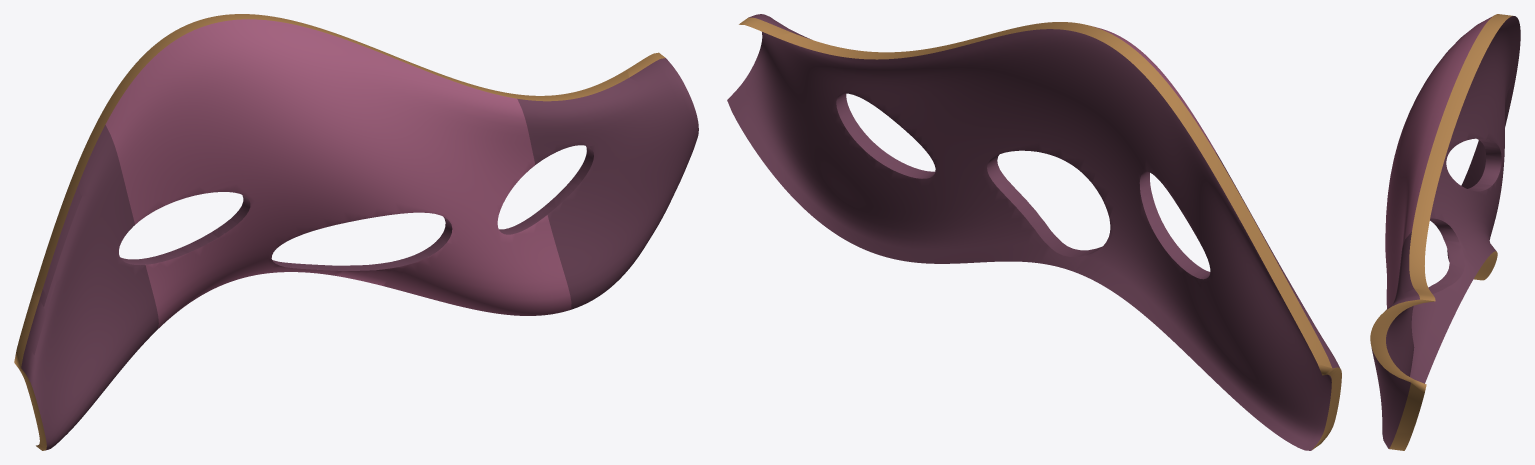
File: umbra-slip-shutter.glb
3 views of the same model, side by side, from view 1: azimuth 30°, elevation 25°; view 2: azimuth 150°, elevation 25°; view 3: azimuth 270°, elevation 25° (orthographic). The views are drawn at different scales.
Parts seen in each view (by area): view 1: one_piece_slip_shutter; view 2: one_piece_slip_shutter; view 3: one_piece_slip_shutter.
Boxes of the visible parts, x1,y1,x2,y2 form: one_piece_slip_shutter: (14, 14, 698, 450); one_piece_slip_shutter: (727, 14, 1341, 450); one_piece_slip_shutter: (1370, 14, 1520, 450).
Size of the model in its own units: 186 by 105 by 41.96.
